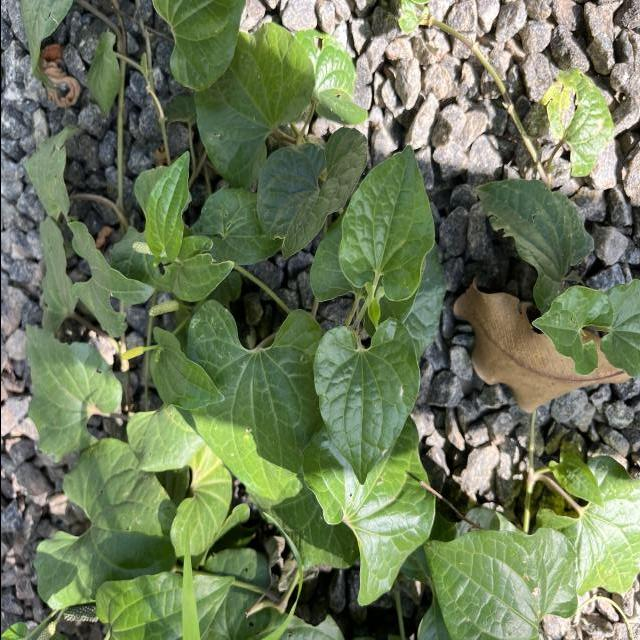Piper longum: (312, 315, 421, 488), (336, 142, 436, 304)
